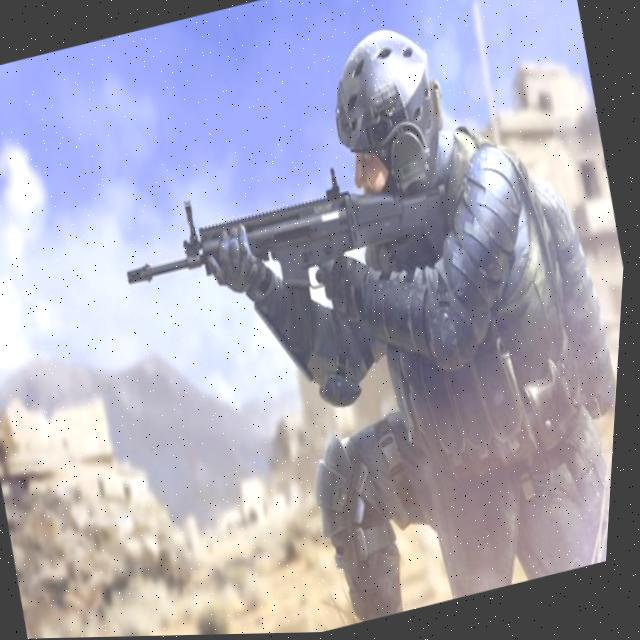firearm: (112, 140, 462, 348)
